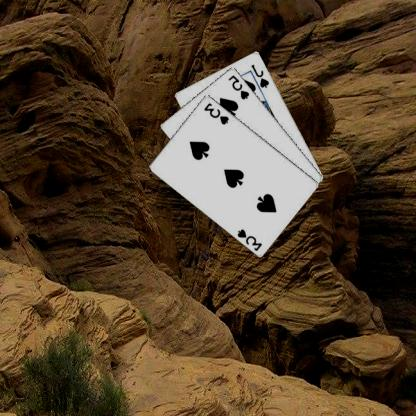3S: (203, 99, 232, 126), (236, 226, 265, 252)
5S: (228, 72, 252, 101)
JS: (250, 62, 272, 88)
